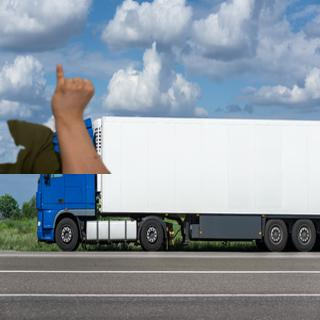FINE: (48, 61, 99, 128)
